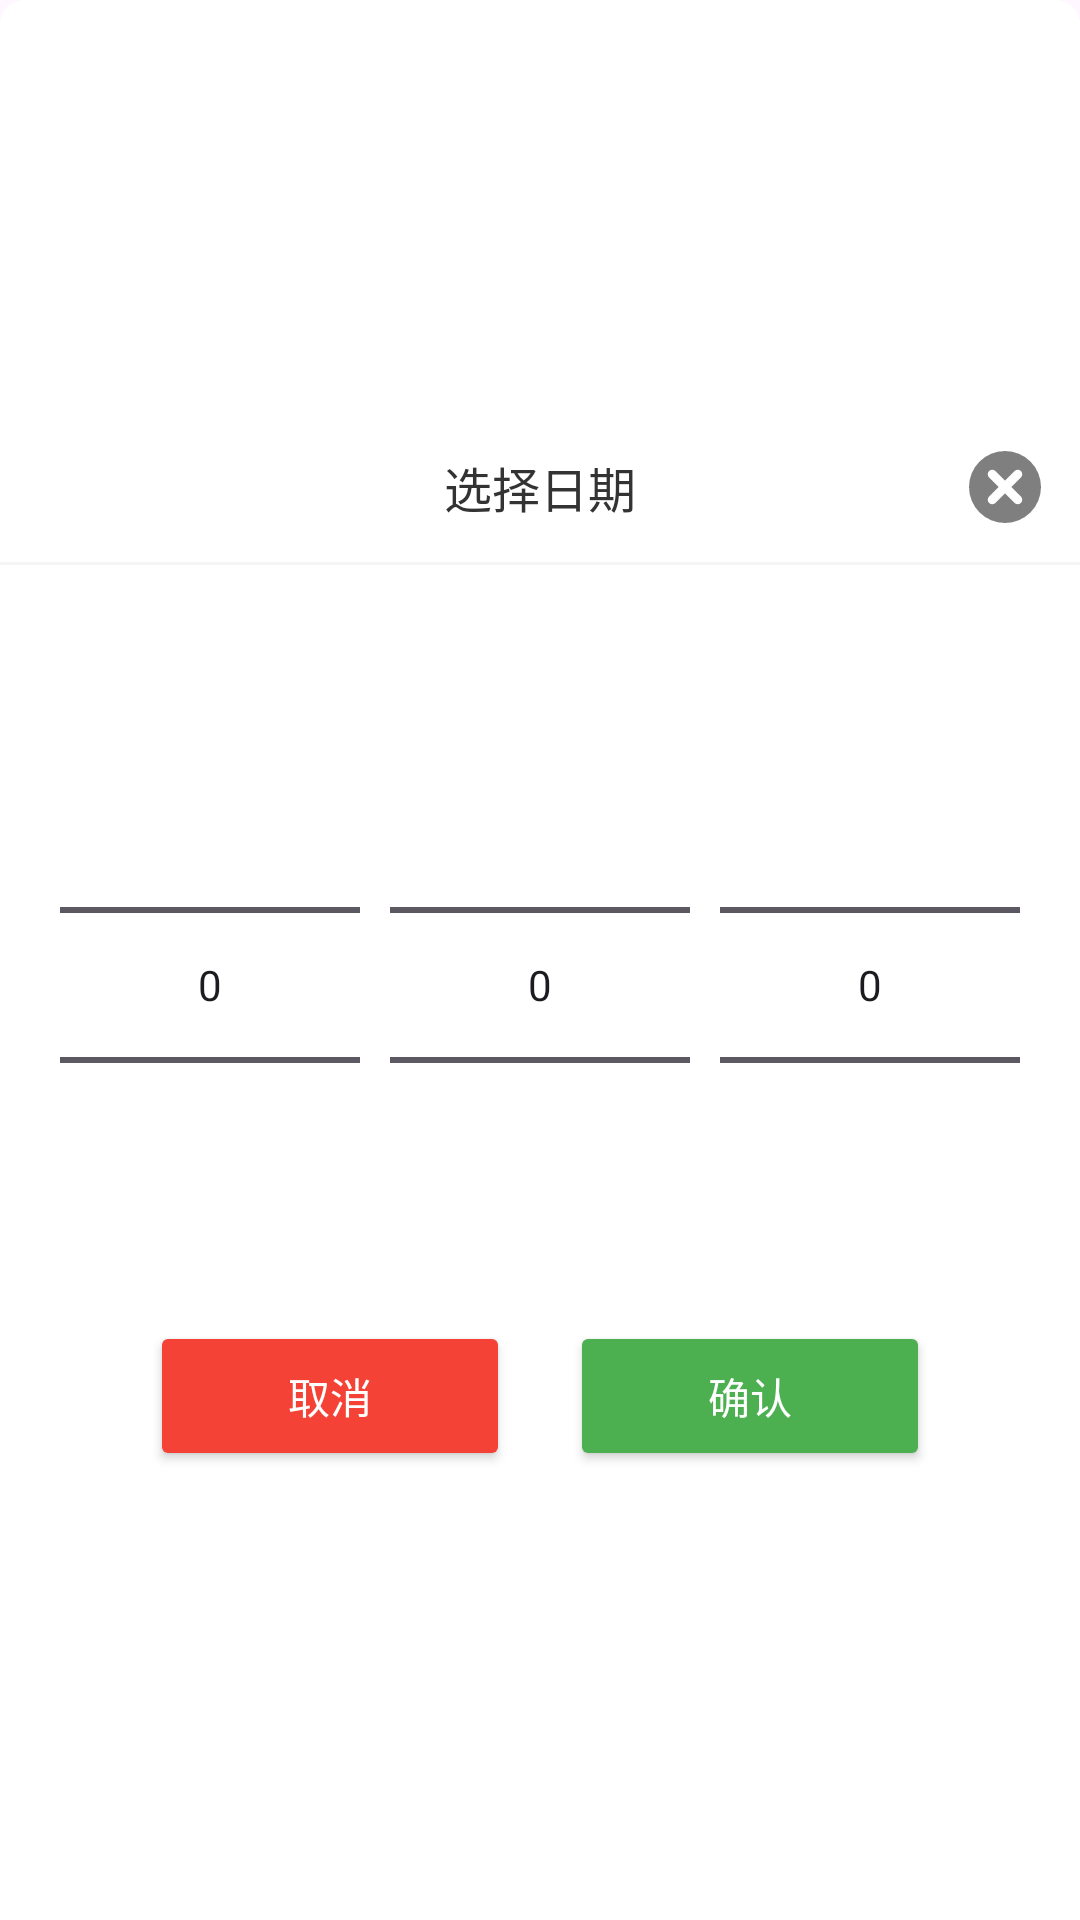

Screen size 1080x1920. Icon name, then its center in pixels as point (x, y):
close: point (1005, 487)
